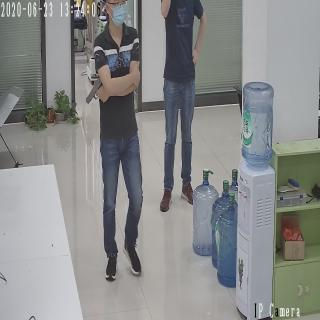gun: (84, 74, 109, 106)
